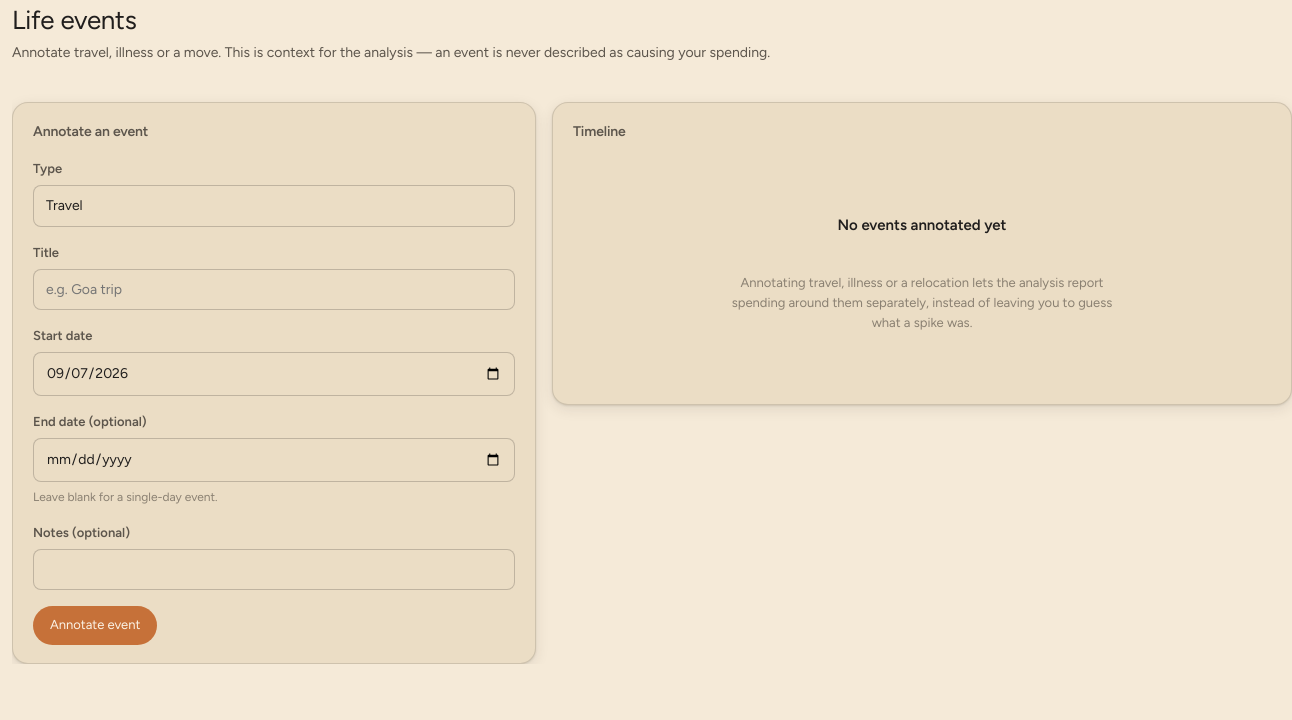
life event form › rejects an end date before the start date
Check: the heading "Annotate an event" is shown, box [33, 121, 148, 143]
Type "Goa trip" into the field labelled "Title" at (274,289), box [33, 269, 515, 310]
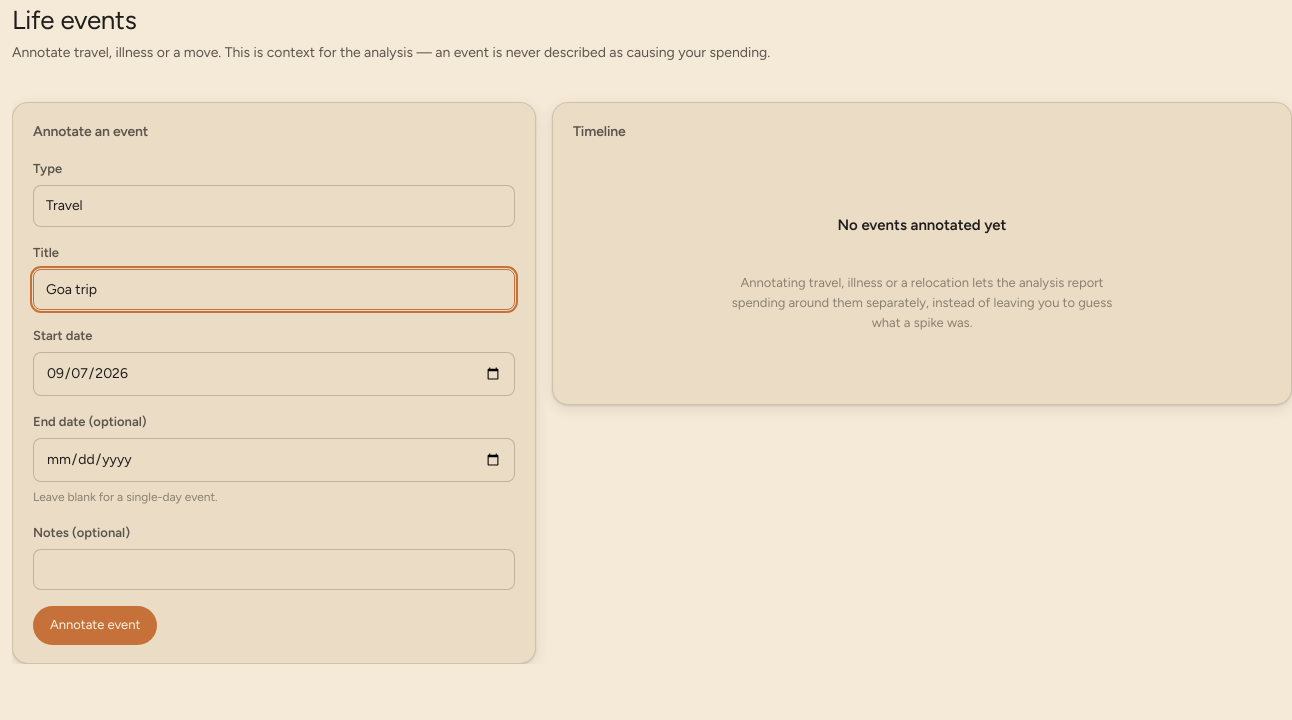
Type "2026-07-10" into the date field labelled "Start date" at (274,374), box [33, 352, 515, 396]
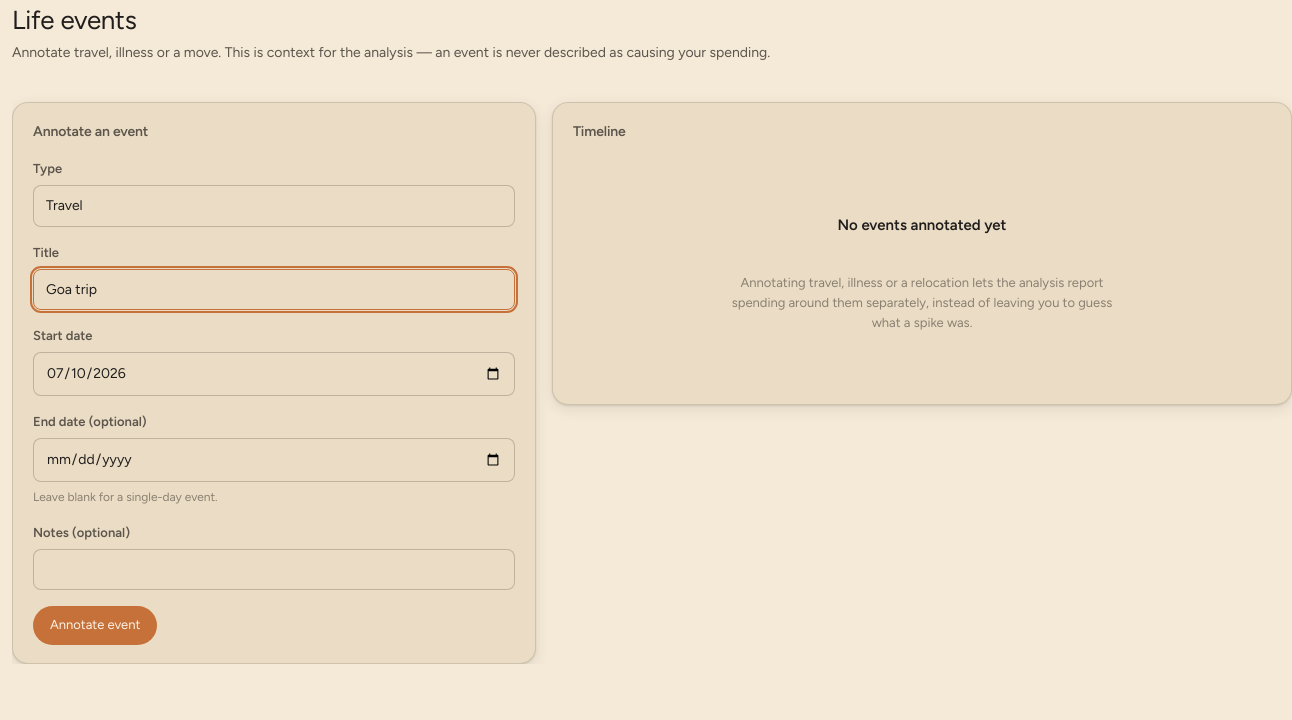
Type "2026-07-05" into the date field labelled "End date (optional)" at (274,460), box [33, 438, 515, 482]
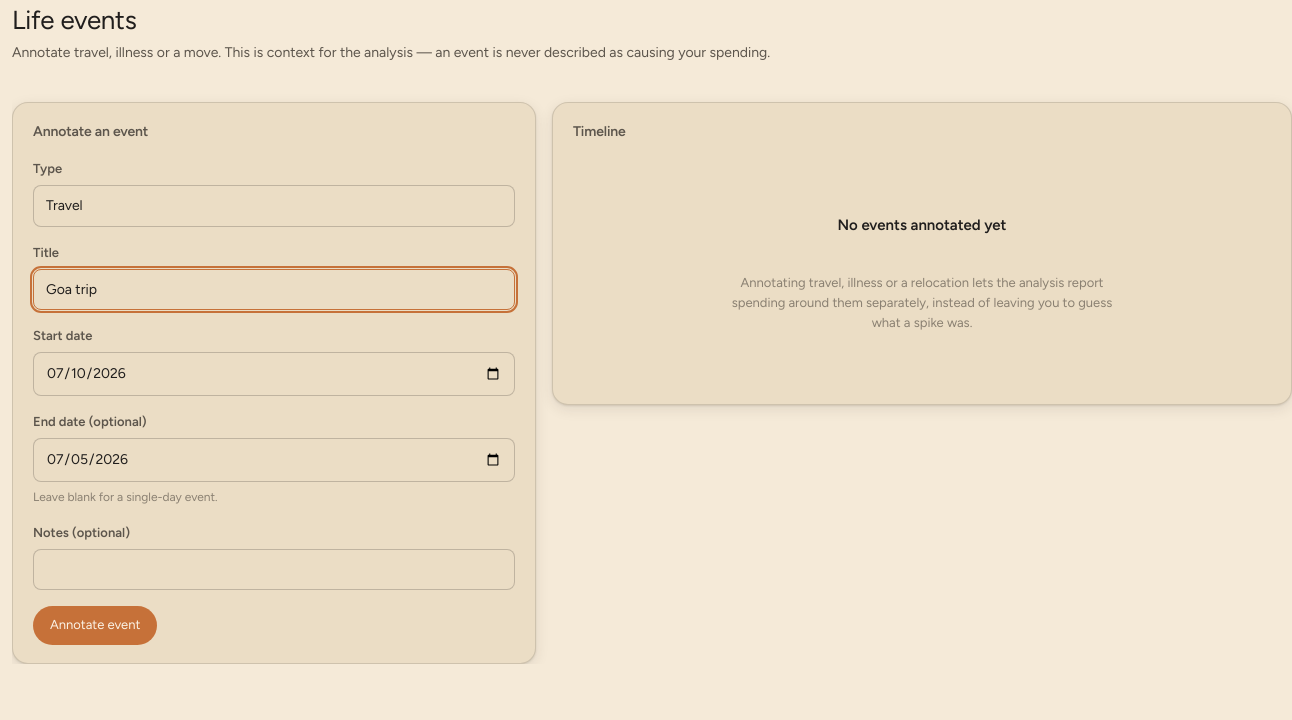
Click the button "Annotate event" at (95,625), box [33, 606, 157, 644]
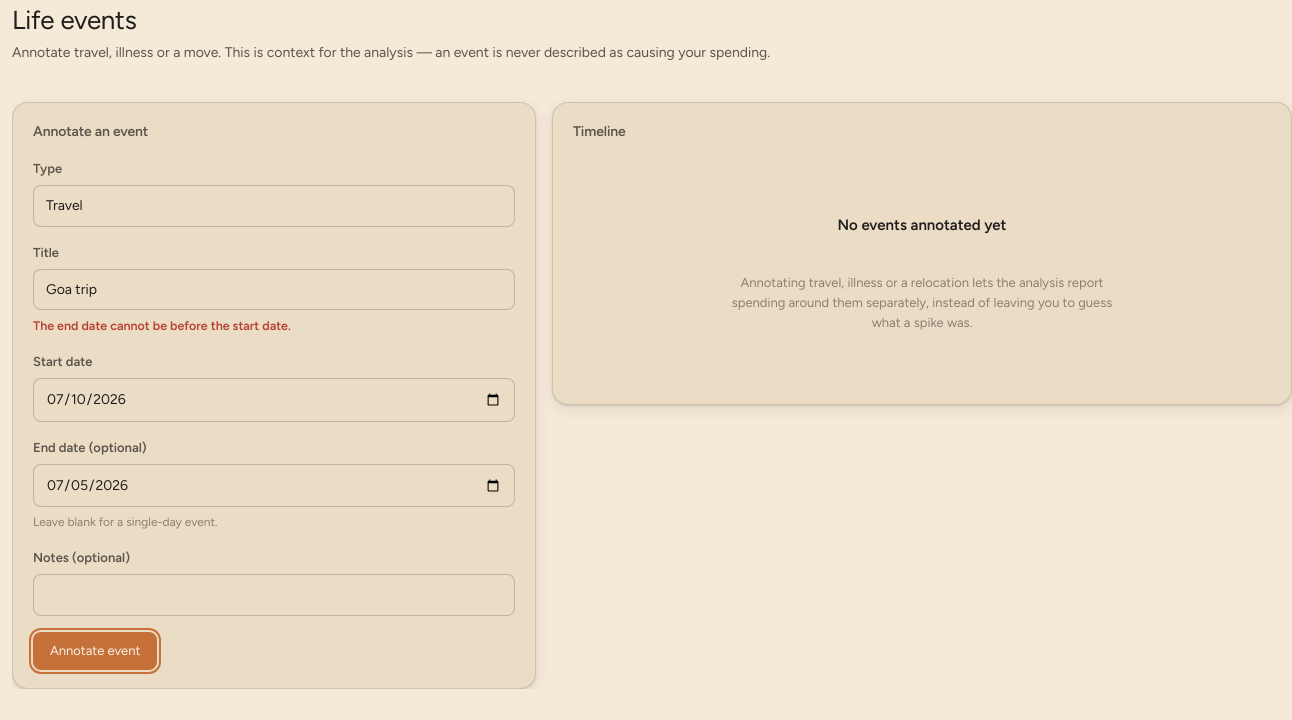
Check: the text "The end date cannot be before the start date." is shown, box [33, 318, 291, 333]
